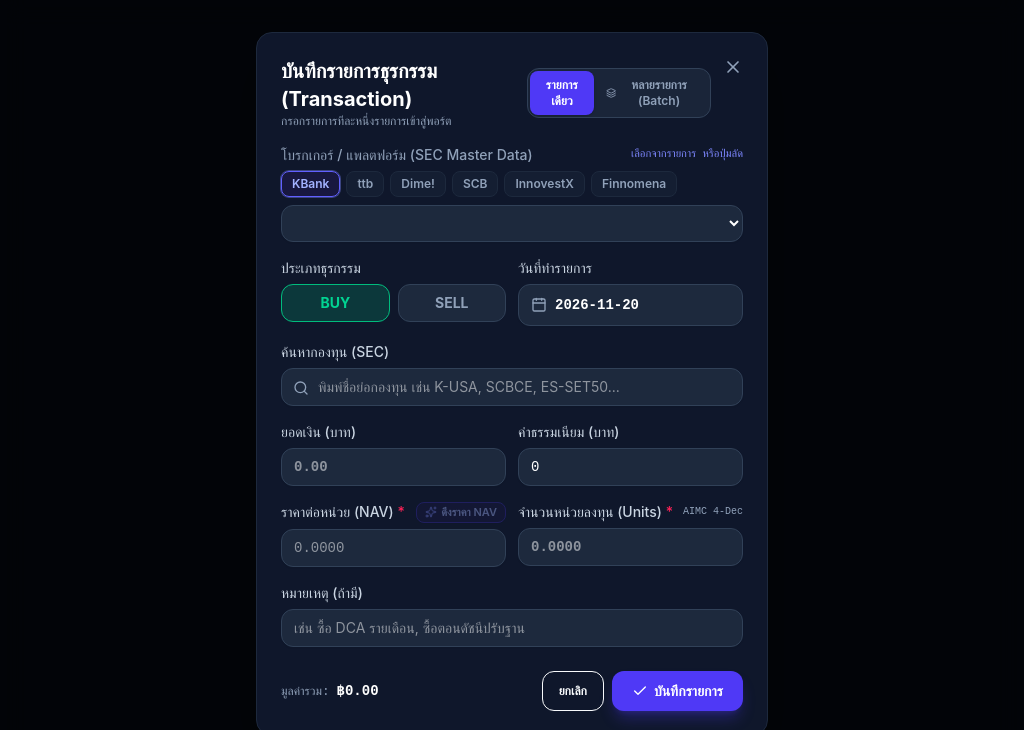
it: TransactionModal Submission and Real-time Calculation › displays visible inline validation error when required fields are missing
The image size is (1024, 730).
# Click Save immediately without filling anything
Click the button "บันทึกรายการ". click: [677, 691]
box: [612, 671, 743, 711]
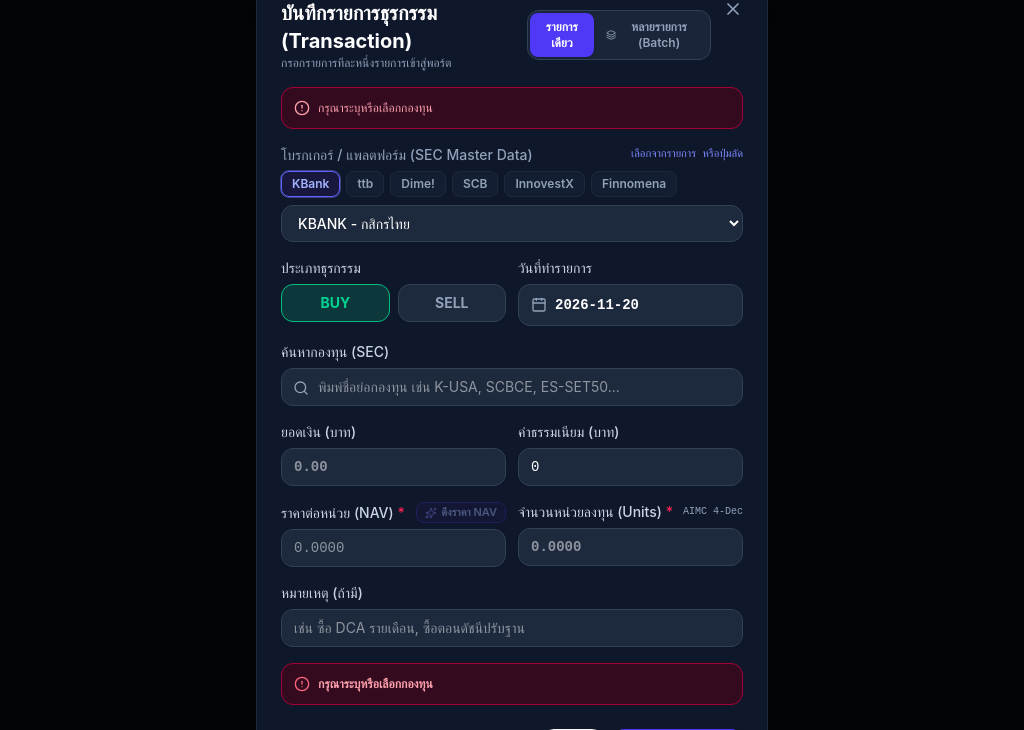
Result: the 1st text "กรุณาระบุหรือเลือกกองทุน" is shown at [318, 100, 433, 116]
